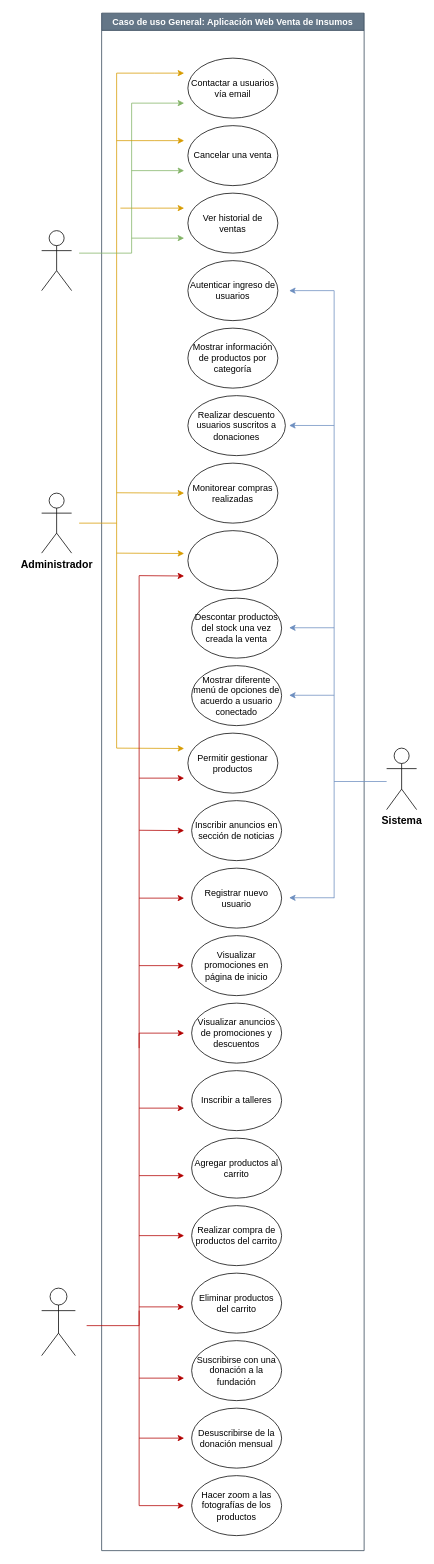
The diagram is 434 pixels wide and 1564 high, and some of its shapes have lost their labels. Here are the shapes that lost their labels. From the top down, the centre of each, then its label:
At (56,260): "Agente de ventas".
At (232,560): "Seguir despacho".
At (58,1321): "Usuario".
